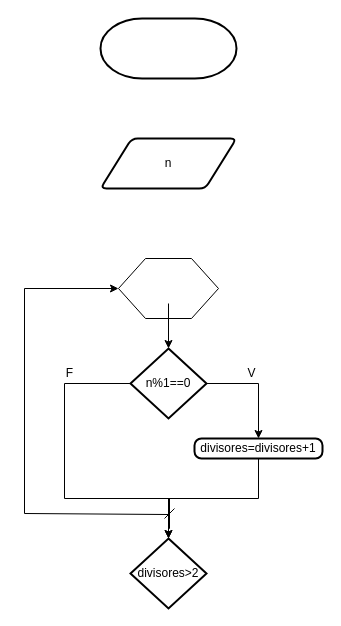
The diagram is 341 pixels wide and 626 high, and some of its shapes have lost their labels. Each missing label, with the centre of its shape:
"i=1; i=n; i++" belongs at (168,288).
"Inicio" belongs at (168,48).
